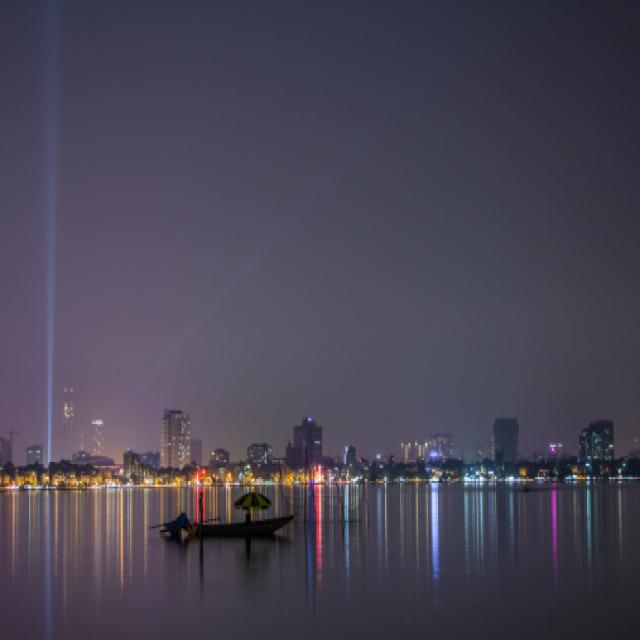Boat: (156, 453, 314, 576)
